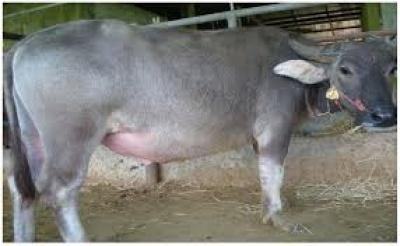buffalo: (7, 20, 396, 243)
